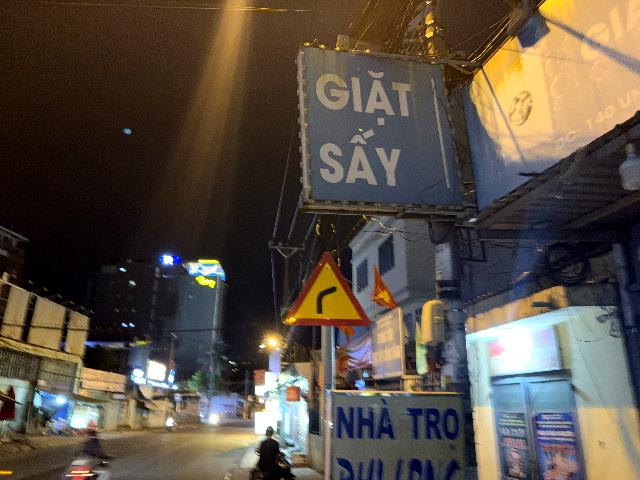cho-ngoat-nguy-hiem-ben-phai: (282, 251, 372, 325)
